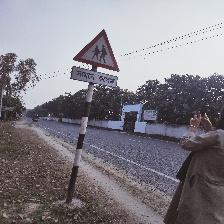College-in-front: (54, 16, 139, 116)
